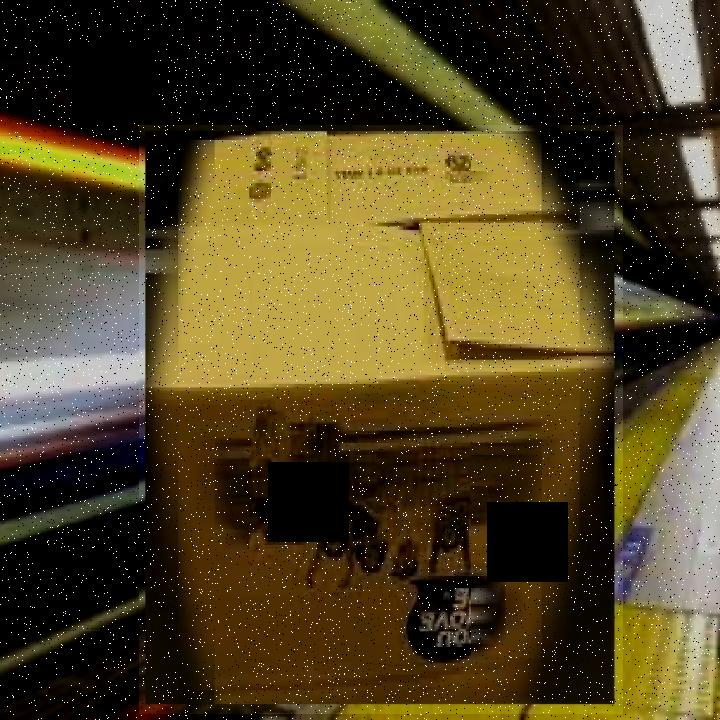box: (139, 126, 623, 716)
